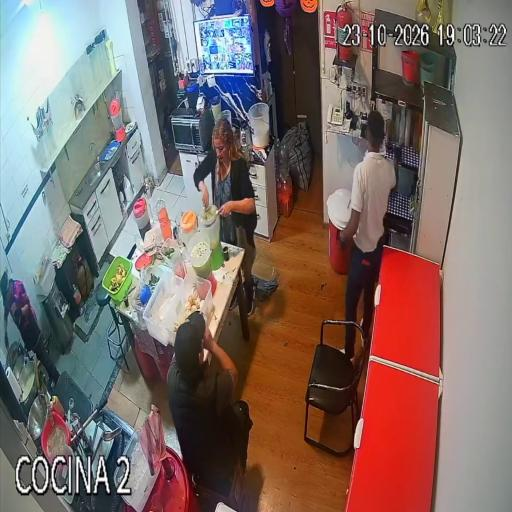Envase Llajua: (52, 395, 64, 418)
Persona1: (167, 311, 253, 496)
Persona2: (194, 120, 257, 314)
Persona3: (340, 110, 397, 337)
Persona5: (0, 271, 59, 380)
Taper: (143, 273, 184, 346), (102, 256, 132, 302)
Taper5: (114, 430, 159, 512)
